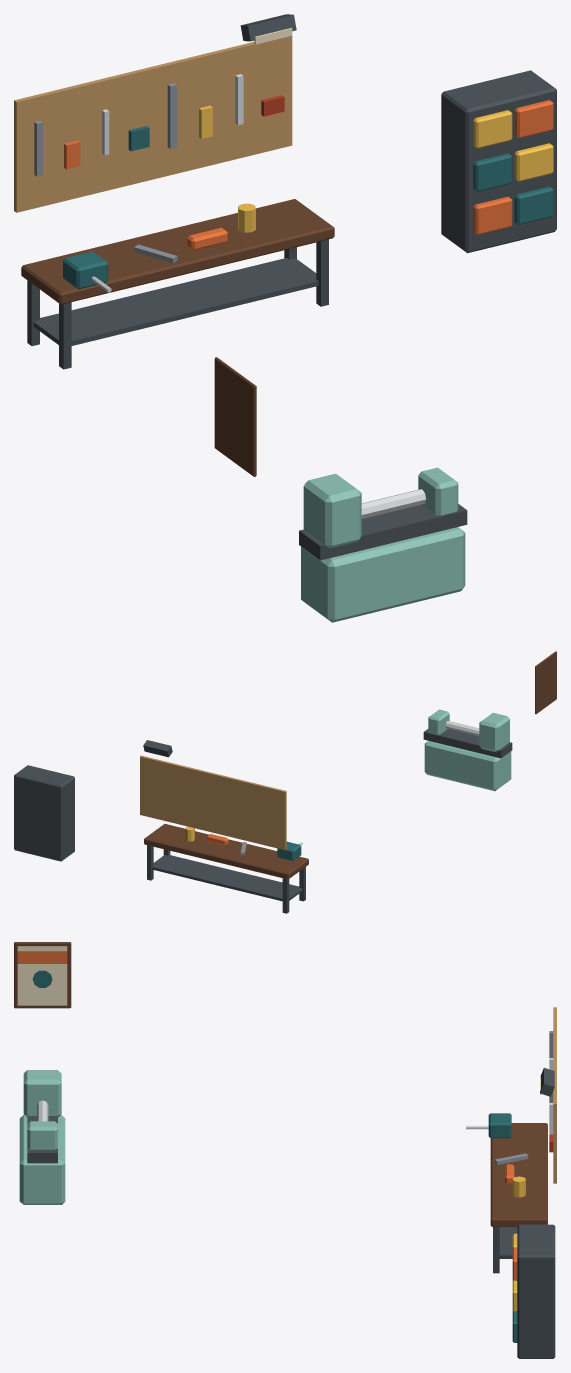
Rendered from Room_Workshop_L1.fbx.
3 renders of one model, top to bottom at view 1: azimuth 30°, elevation 25°; view 2: azimuth 150°, elevation 25°; view 3: azimuth 270°, elevation 25°, orthographic. The views are drawn at different scales.
Parts seen in each view (by area): view 1: Decor, Bins1, Workbench1, Lathe1; view 2: Decor, Bins1, Workbench1, Lathe1; view 3: Decor, Bins1, Workbench1, Lathe1.
Boxes of the visible parts, x1=… form: Decor: x1=14, y1=14, x2=553, y2=560; Bins1: x1=441, y1=70, x2=556, y2=253; Workbench1: x1=21, y1=199, x2=334, y2=304; Lathe1: x1=301, y1=527, x2=465, y2=622; Decor: x1=140, y1=651, x2=556, y2=913; Bins1: x1=14, y1=765, x2=74, y2=861; Workbench1: x1=144, y1=824, x2=308, y2=879; Lathe1: x1=424, y1=741, x2=511, y2=791; Decor: x1=14, y1=942, x2=556, y2=1342; Bins1: x1=517, y1=1224, x2=555, y2=1358; Workbench1: x1=490, y1=1123, x2=547, y2=1226; Lathe1: x1=19, y1=1115, x2=65, y2=1204.
Size of the model in its own units: 28.5 by 10.98 by 28.48.
